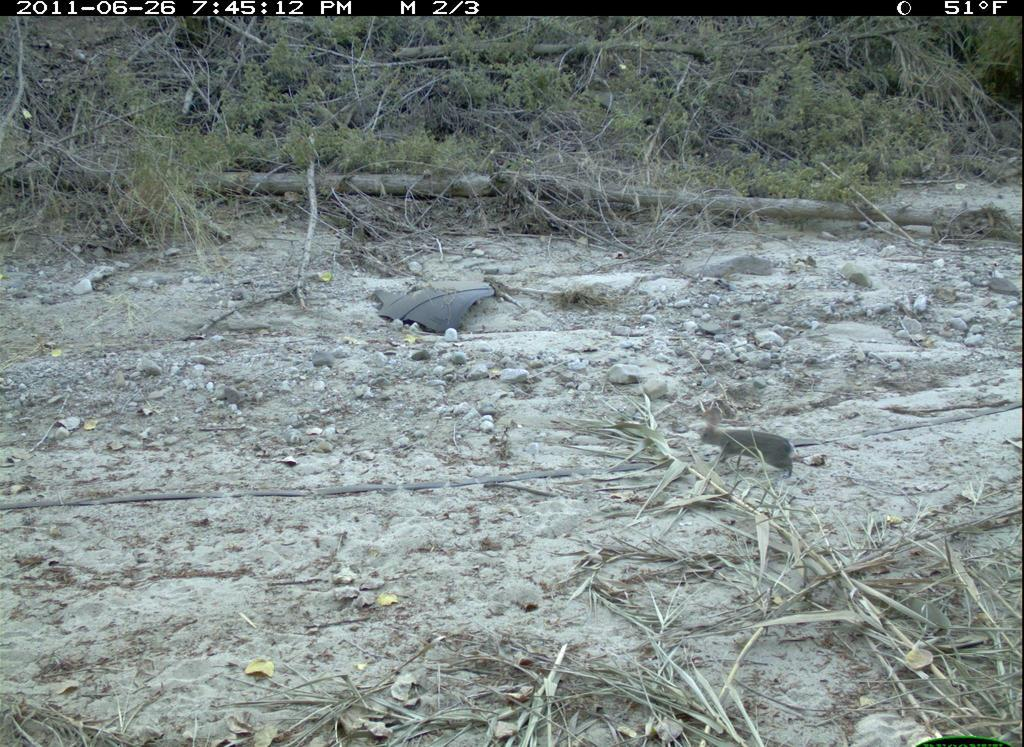rabbit: (689, 405, 813, 491)
